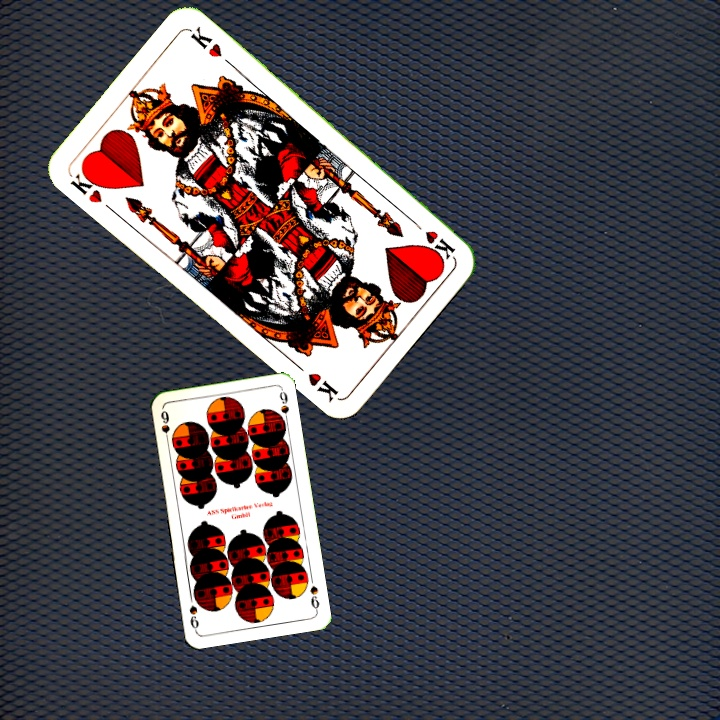HK: (407, 215, 458, 262), (66, 163, 108, 206)
S9: (157, 406, 172, 446), (306, 581, 322, 614)
